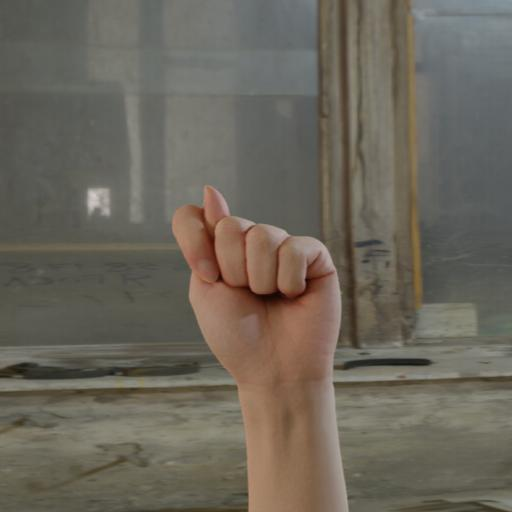T: (161, 171, 379, 373)
